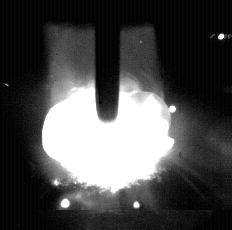arame: (96, 0, 121, 123)
poca: (41, 0, 175, 230)
